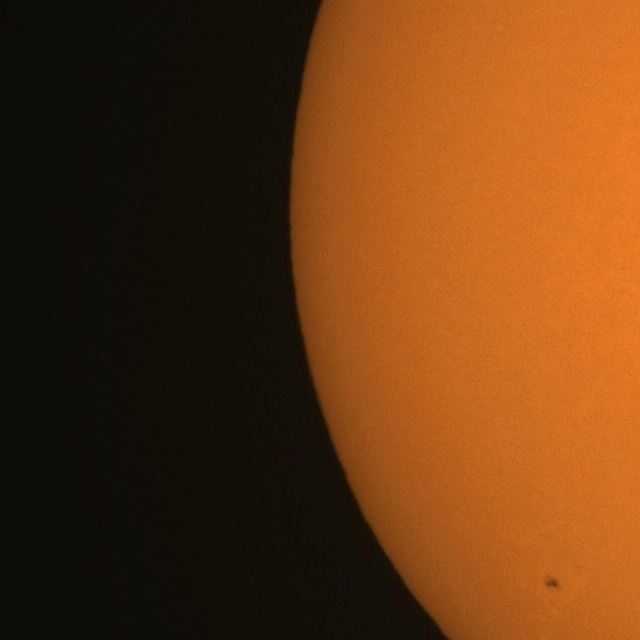sunspot: (542, 574, 560, 592)
